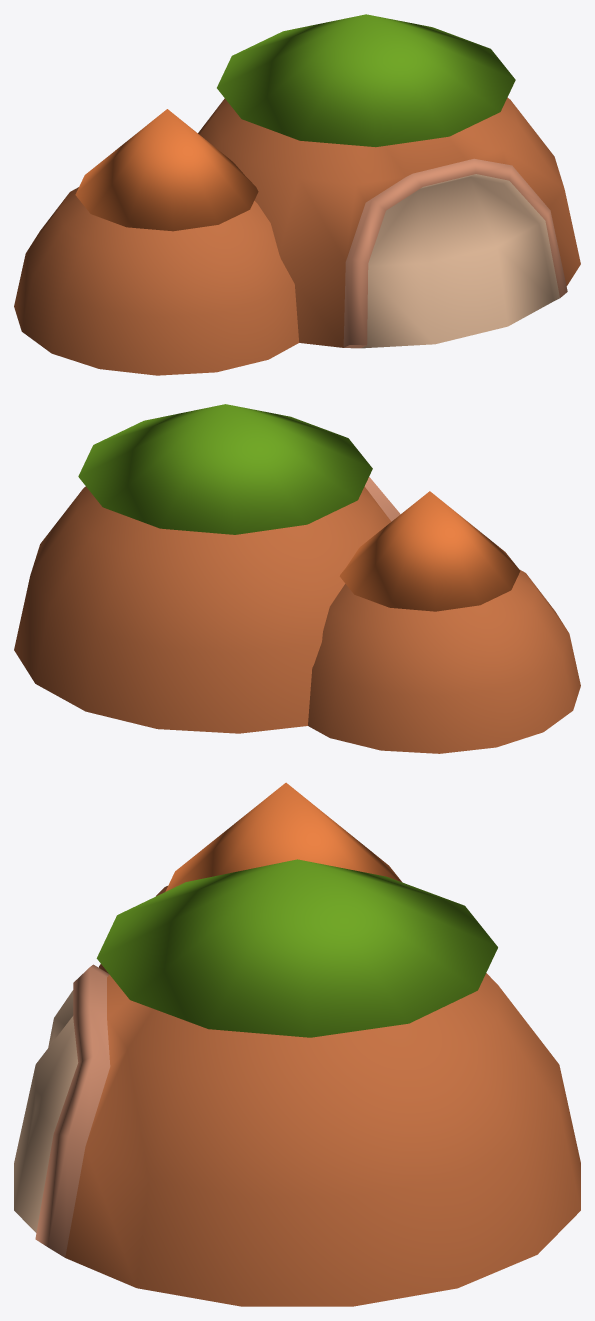
The model's file is Hut.fbx.
3 views of the same model, one above another, from view 1: azimuth 30°, elevation 25°; view 2: azimuth 150°, elevation 25°; view 3: azimuth 270°, elevation 25° (orthographic). The views are drawn at different scales.
Visible parts, largest first — view 1: hut; view 2: hut; view 3: hut.
Boxes of the visible parts, box(x1,y1,x2,y2) form: hut: box(14, 14, 580, 375); hut: box(14, 404, 580, 753); hut: box(14, 782, 580, 1306).
Bounding box in the file's own units: 388 × 175 × 275.
1 material, 1 textured.
